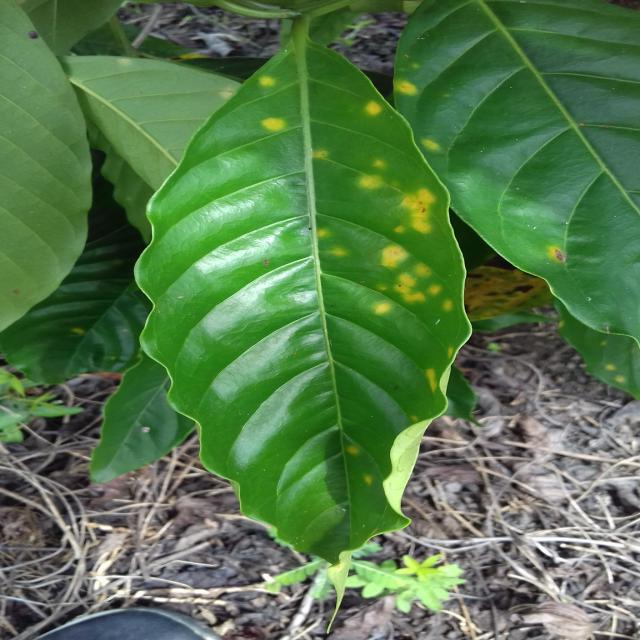Enfermedad-Roya: (131, 45, 468, 569)
